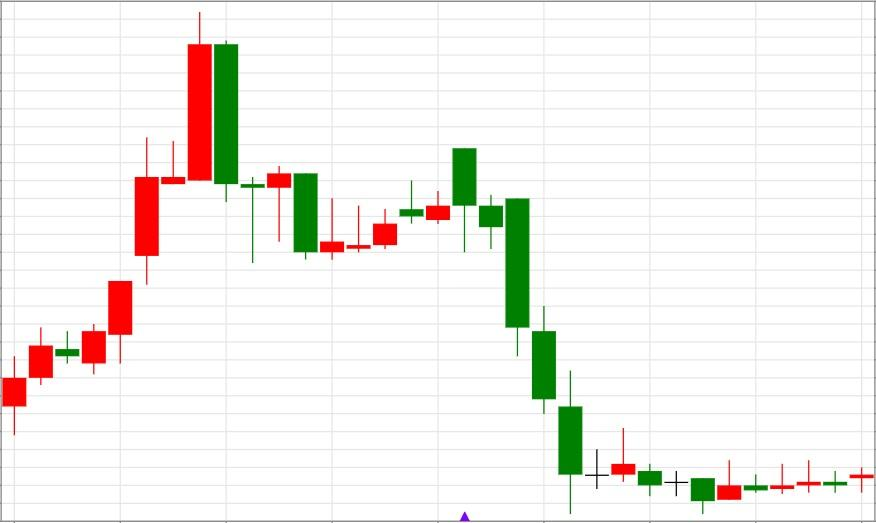three_black_crows_fall: (293, 147, 583, 514)
